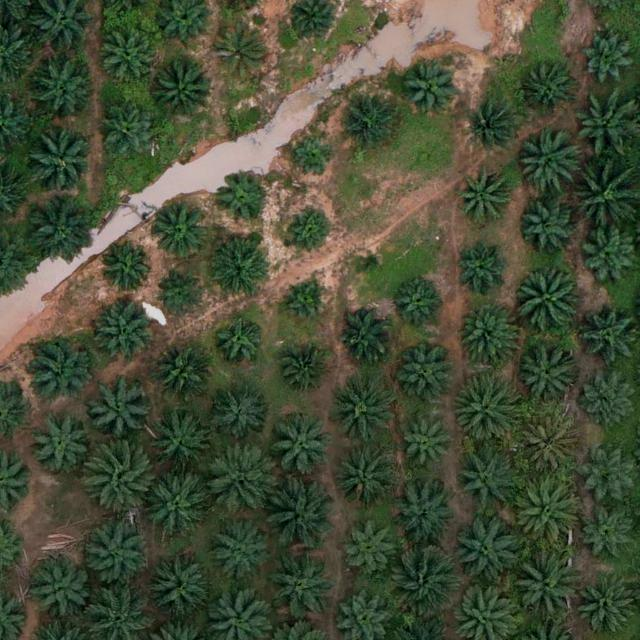Kelapa_Sawit: (25, 50, 95, 121), (386, 543, 456, 614), (263, 477, 333, 548), (203, 442, 273, 513), (20, 120, 90, 190), (23, 197, 93, 267), (453, 374, 523, 444), (510, 477, 580, 547), (80, 516, 150, 586), (84, 441, 154, 511), (574, 91, 636, 154), (519, 134, 581, 197), (515, 199, 577, 262), (515, 270, 577, 333), (515, 340, 577, 403), (205, 241, 267, 304), (457, 303, 519, 366), (395, 345, 457, 408), (269, 416, 331, 479), (89, 376, 151, 439), (25, 338, 87, 401), (571, 574, 633, 637), (513, 549, 575, 612), (455, 449, 517, 512), (454, 524, 516, 587), (392, 485, 454, 548), (207, 516, 269, 579), (144, 473, 206, 536), (146, 556, 208, 619), (28, 558, 90, 621), (148, 54, 210, 116), (517, 409, 579, 471), (338, 94, 400, 156), (331, 379, 393, 441), (90, 305, 152, 367), (27, 410, 89, 472), (333, 444, 395, 506), (267, 555, 329, 617), (208, 380, 270, 442), (150, 414, 212, 476), (211, 25, 266, 80), (99, 26, 154, 81), (101, 101, 156, 156), (580, 229, 635, 284), (581, 376, 636, 431), (455, 241, 510, 296), (397, 420, 452, 475), (338, 306, 393, 361), (579, 444, 634, 499), (579, 506, 634, 561), (343, 520, 398, 575), (578, 31, 632, 86), (522, 61, 576, 116), (467, 100, 521, 155), (400, 56, 454, 111), (216, 171, 270, 226), (153, 346, 207, 401), (275, 346, 329, 401), (458, 168, 512, 223), (390, 269, 444, 324), (150, 201, 204, 256), (98, 241, 152, 296), (214, 317, 260, 364), (281, 280, 327, 327), (284, 207, 330, 254), (291, 132, 337, 179), (158, 274, 204, 320), (354, 245, 385, 276)
